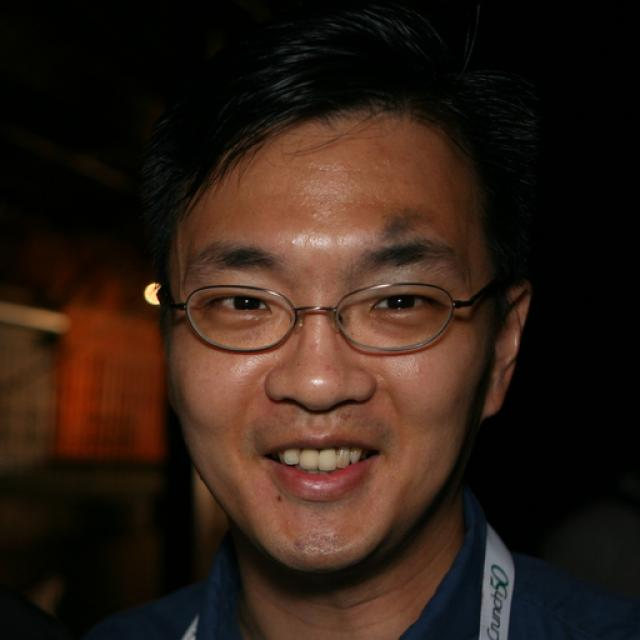Acne: (306, 202, 322, 221), (285, 236, 303, 251)
